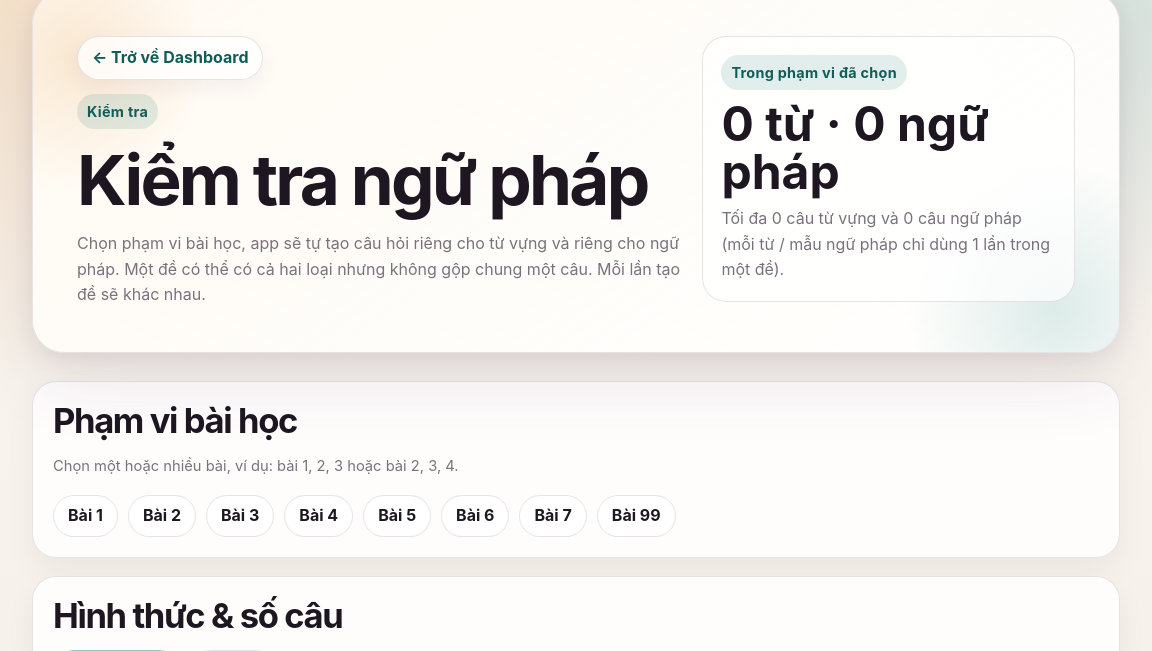
it: GrammarExamPage — làm đề điền từ › hiện ô nhập thay cho nút chọn
Click the button "Bài 99": {"x": 636, "y": 516} x1=597 y1=495 x2=676 y2=537
(page scrolled)
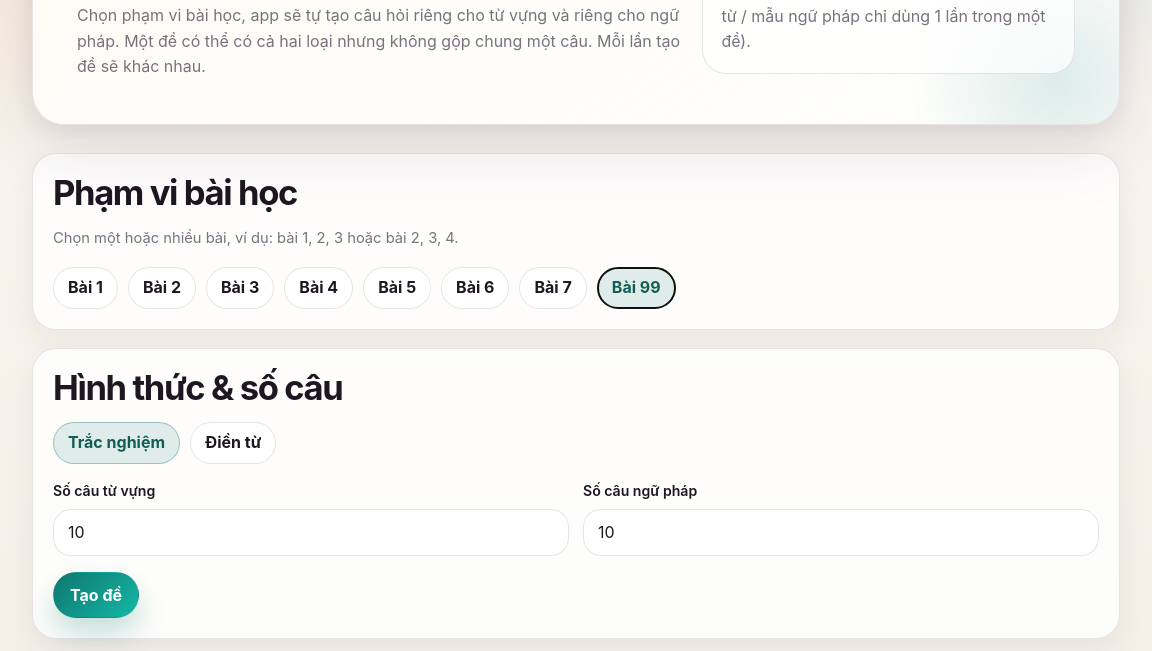
Click the button "Điền từ": {"x": 233, "y": 443} x1=190 y1=422 x2=276 y2=464
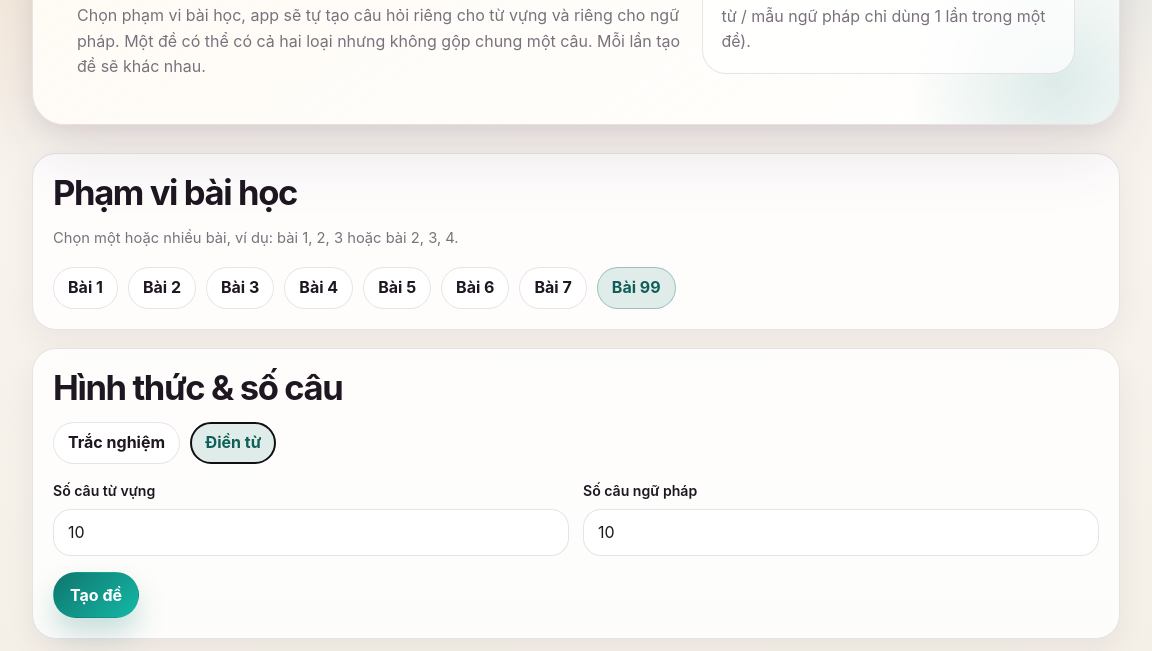
Click the button "Tạo đề": {"x": 96, "y": 595} x1=53 y1=572 x2=139 y2=618
(page scrolled)
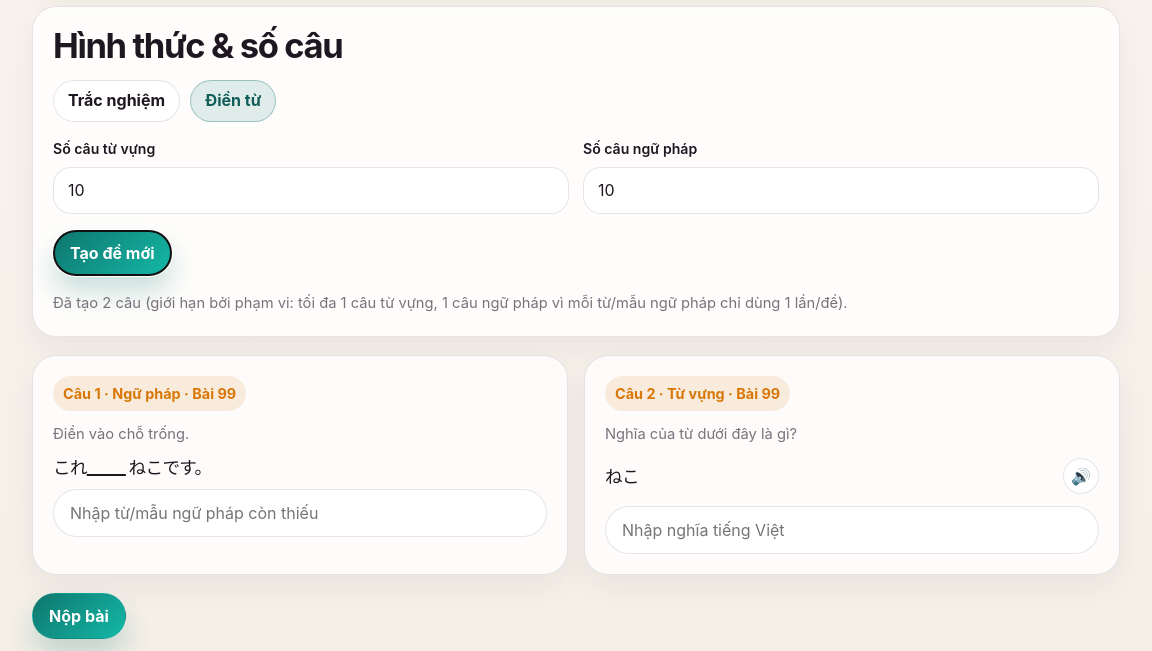
Now the field with placeholder "Nhập nghĩa tiếng Việt" is shown, box x1=605 y1=506 x2=1099 y2=554
Now the field with placeholder "Nhập từ/mẫu ngữ pháp còn thiếu" is shown, box x1=53 y1=490 x2=547 y2=538
